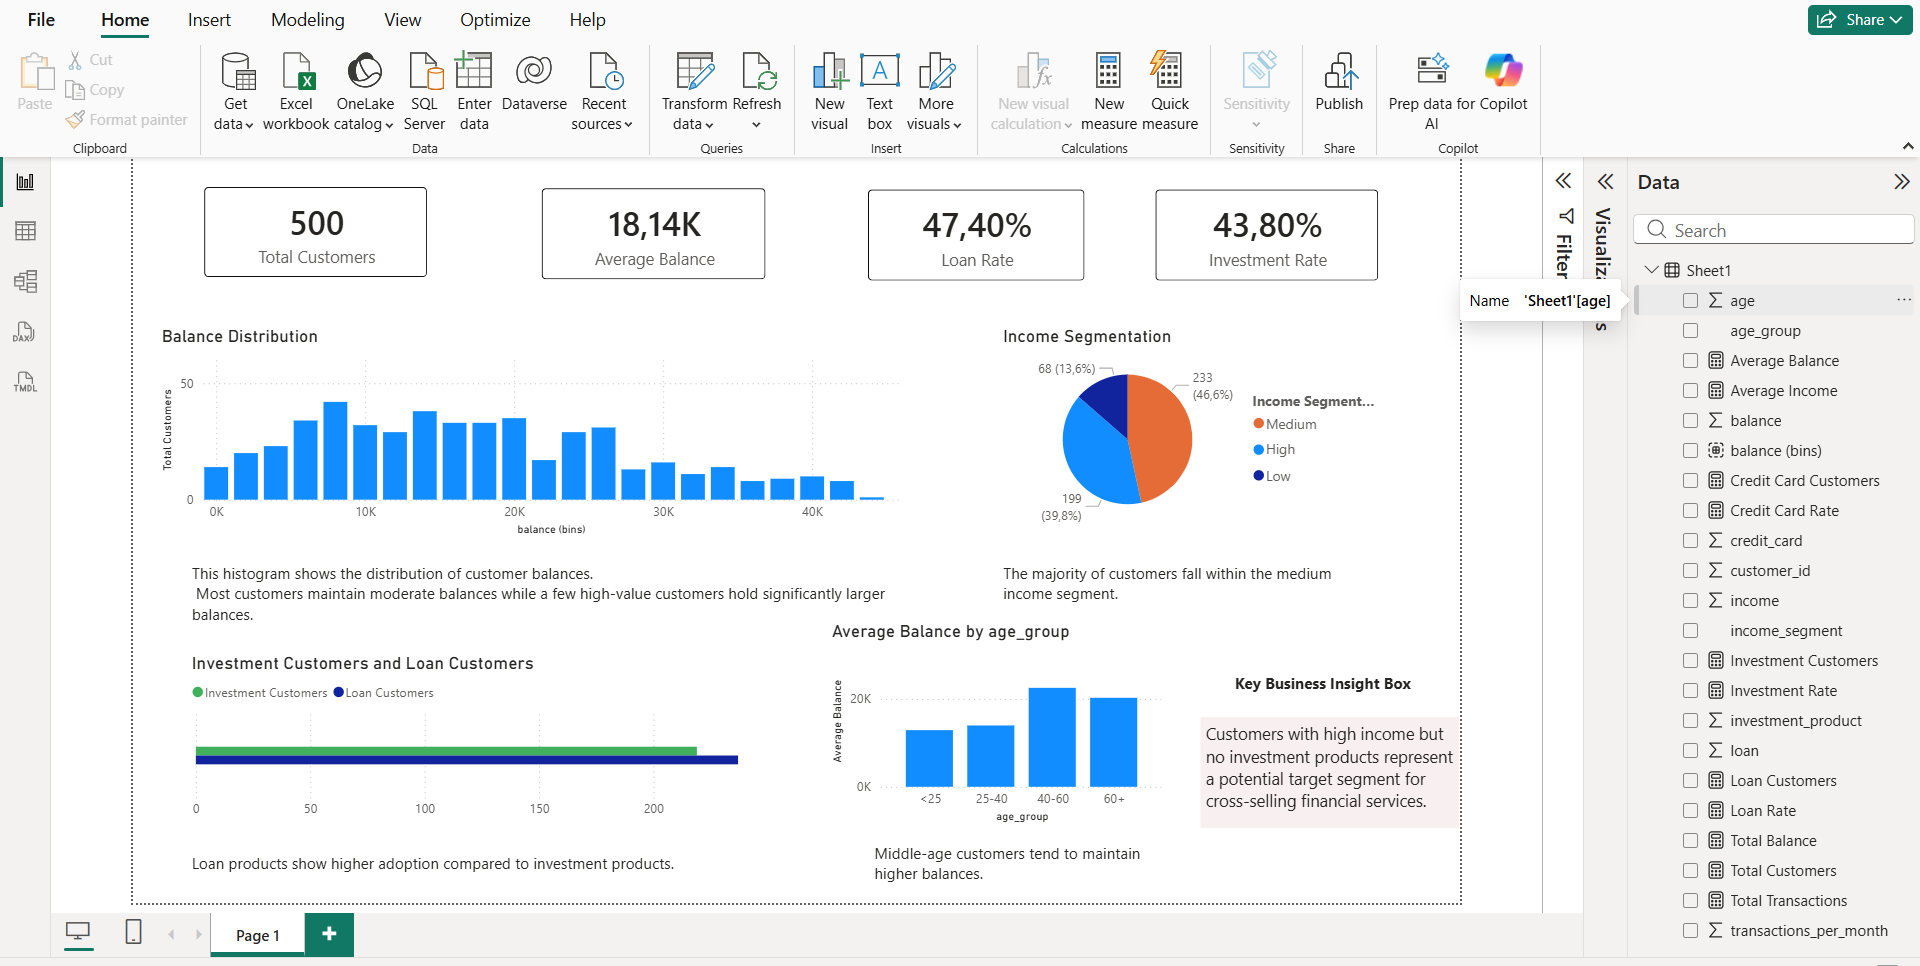

This screenshot's page, from the dashboard's own definition file:
{"tool":"powerbi","page":{"name":"Page 1","canvas":[1280,720],"ordinal":0},"visuals":[{"type":"cardVisual","title":"Total Customers","fields":{"Data":["Sheet1.Total Customers"]},"box":[51.4,12.2,249.4,121.1],"z":0},{"type":"cardVisual","fields":{"Data":["Sheet1.Average Balance"]},"box":[377.8,13.5,250.7,122.3],"z":1000},{"type":"cardVisual","fields":{"Data":["Sheet1.Loan Rate"]},"box":[692.1,14.7,243.3,122.3],"z":2000},{"type":"cardVisual","fields":{"Data":["Sheet1.Investment Rate"]},"box":[969.7,14.7,249.4,122.3],"z":3000},{"type":"columnChart","title":"Balance Distribution","fields":{"Category":["Sheet1.balance (bins)"],"Y":["Sheet1.Total Customers"]},"box":[23.2,162.6,721.4,207.9],"z":4000},{"type":"textbox","box":[51.9,386.1,692.5,76],"z":5000},{"type":"pieChart","title":"Income Segmentation","fields":{"Category":["Sheet1.income_segment"],"Y":["Sheet1.Total Customers"]},"box":[835.2,162.6,370.5,200.5],"z":6000},{"type":"textbox","box":[835.2,386.4,370.5,57.5],"z":7000},{"type":"columnChart","fields":{"Category":["Sheet1.age_group"],"Y":["Sheet1.Average Balance"]},"box":[669.6,447.6,330.6,200.3],"z":7001},{"type":"textbox","box":[710.6,656.3,289.5,63.9],"z":7002},{"type":"clusteredBarChart","fields":{"Y":["Sheet1.Investment Customers","Sheet1.Loan Customers"]},"box":[51.4,478.1,553.9,170],"z":7003},{"type":"textbox","box":[51.4,666.4,553.9,53.8],"z":7004},{"type":"textbox","box":[1054.4,492.2,201.5,39.8],"z":7005},{"type":"textbox","box":[1030.3,540.5,249.7,107.4],"z":7006}]}

Visuals, with their boxes on the page's 1280x720 design canvas (x1, y1, x2, y2). These are canvas units, not pixel positions in the 1920x966 screenshot, which may show the page scaled, cropped or inside an application window:
"Total Customers" cardVisual: <region>51, 12, 301, 133</region>
cardVisual - Sheet1.Average Balance: <region>378, 14, 628, 136</region>
cardVisual - Sheet1.Loan Rate: <region>692, 15, 935, 137</region>
cardVisual - Sheet1.Investment Rate: <region>970, 15, 1219, 137</region>
"Balance Distribution" columnChart: <region>23, 163, 745, 370</region>
textbox: <region>52, 386, 744, 462</region>
"Income Segmentation" pieChart: <region>835, 163, 1206, 363</region>
textbox: <region>835, 386, 1206, 444</region>
columnChart - Sheet1.age_group x Sheet1.Average Balance: <region>670, 448, 1000, 648</region>
textbox: <region>711, 656, 1000, 720</region>
clusteredBarChart - Sheet1.Investment Customers x Sheet1.Loan Customers: <region>51, 478, 605, 648</region>
textbox: <region>51, 666, 605, 720</region>
textbox: <region>1054, 492, 1256, 532</region>
textbox: <region>1030, 540, 1280, 648</region>
